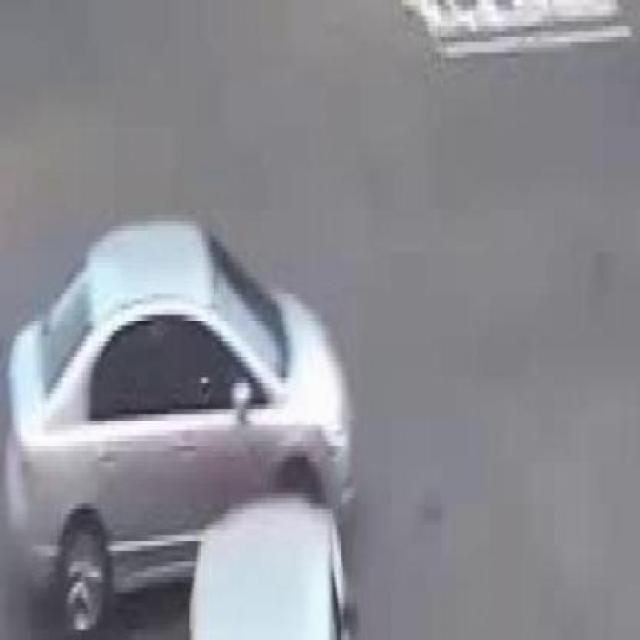accident: (1, 203, 384, 640)
